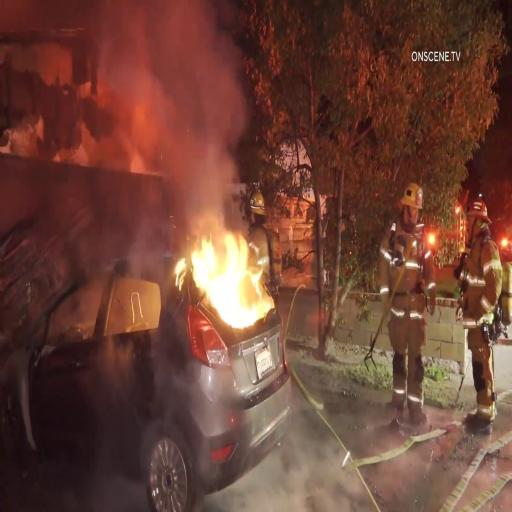fire: (172, 242, 254, 338)
smoke: (77, 0, 221, 167)
